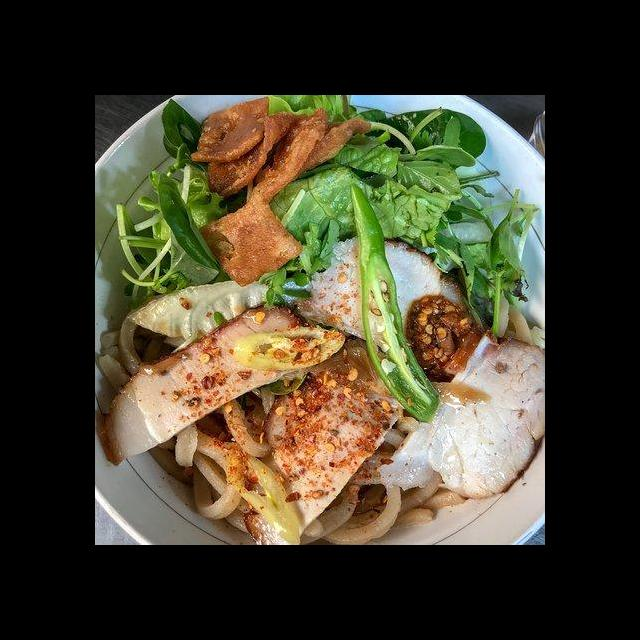banh da: (194, 191, 305, 291), (201, 108, 311, 201), (245, 105, 336, 206), (281, 114, 373, 186), (187, 96, 274, 165)
mi: (296, 414, 471, 545), (146, 375, 283, 535), (96, 299, 174, 397), (481, 287, 545, 352)
mi quang: (97, 117, 545, 545)
thit heo: (96, 298, 325, 470), (239, 344, 409, 545), (376, 324, 545, 503), (290, 232, 472, 372)
